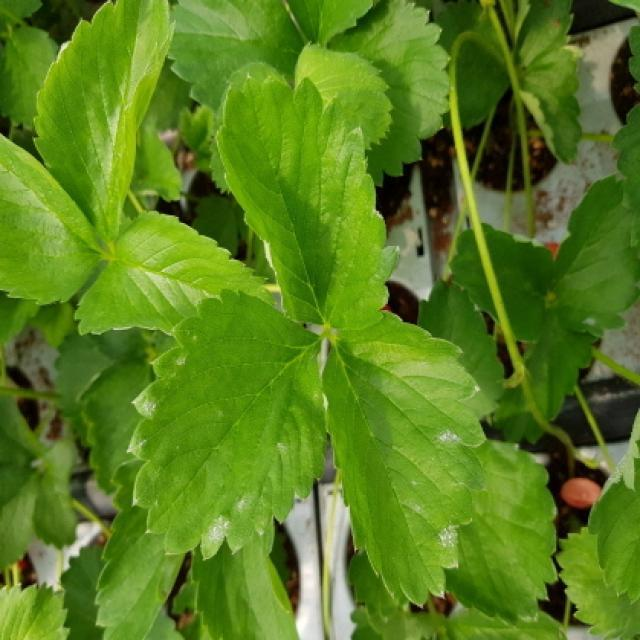powdery_mildew_leaf: (125, 288, 330, 562), (319, 309, 490, 608), (214, 71, 403, 334), (31, 0, 178, 242)
